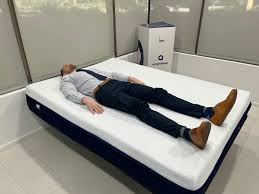bed-matress: (27, 57, 253, 194)
